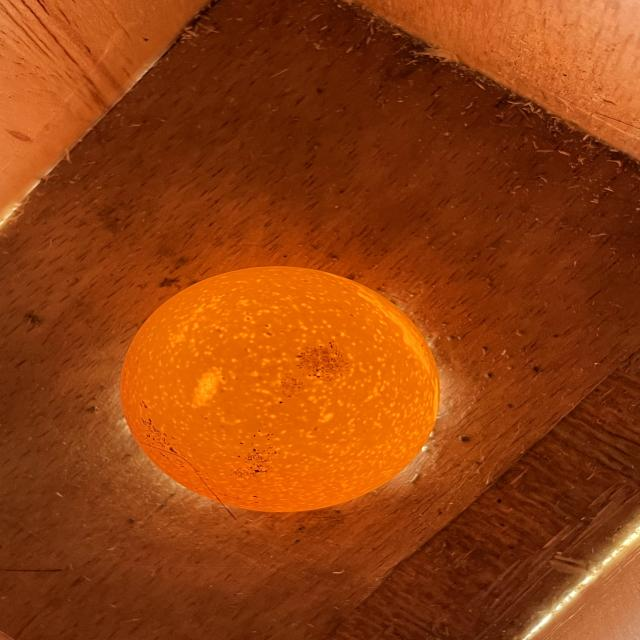infertile: (122, 266, 438, 511)
